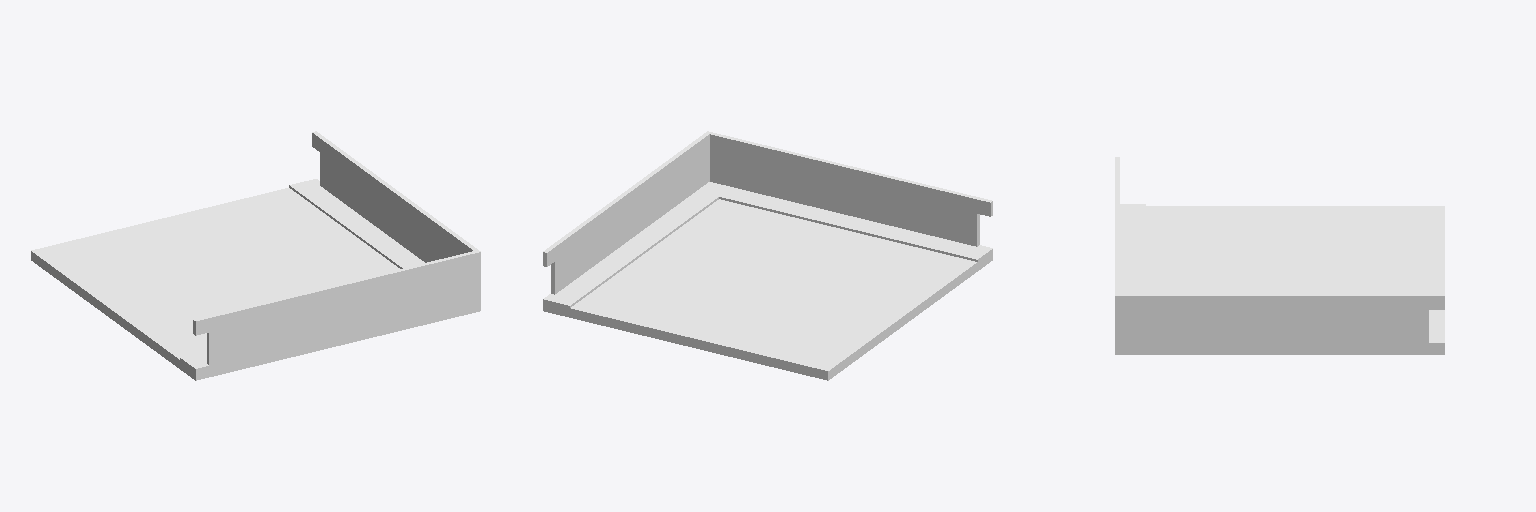
File: monu1-3.obj
The picture shows the model from 3 angles: view 1: azimuth 30°, elevation 25°; view 2: azimuth 150°, elevation 25°; view 3: azimuth 270°, elevation 25°; orthographic projection.
Parts seen in each view (by area): view 1: object 1; view 2: object 1; view 3: object 1.
Part boxes in pixels (left/top/right/bottom): object 1: left=31, top=131, right=480, bottom=380; object 1: left=543, top=131, right=992, bottom=380; object 1: left=1115, top=157, right=1444, bottom=354.
Bounding box in the file's own units: 12.6 × 2.5 × 12.6.